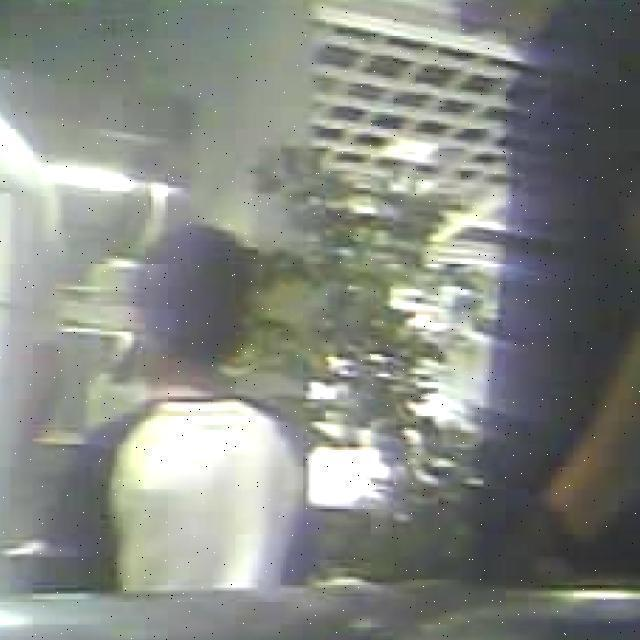person: (455, 0, 640, 582), (44, 225, 318, 600)
